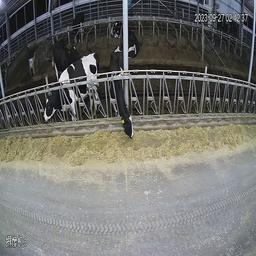cow: (42, 52, 100, 124), (109, 46, 135, 139), (49, 37, 79, 63), (71, 12, 88, 42), (129, 30, 140, 56), (111, 18, 122, 38)
